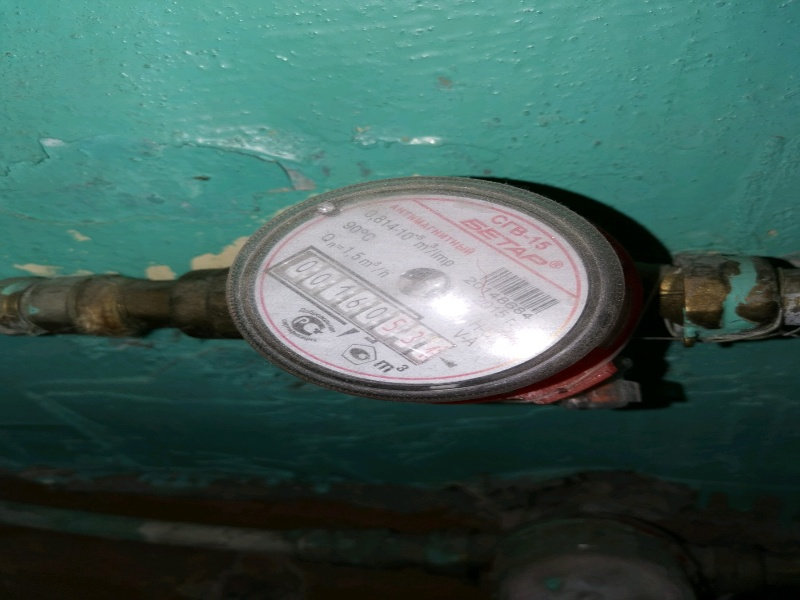meter: (298, 284, 447, 334)
